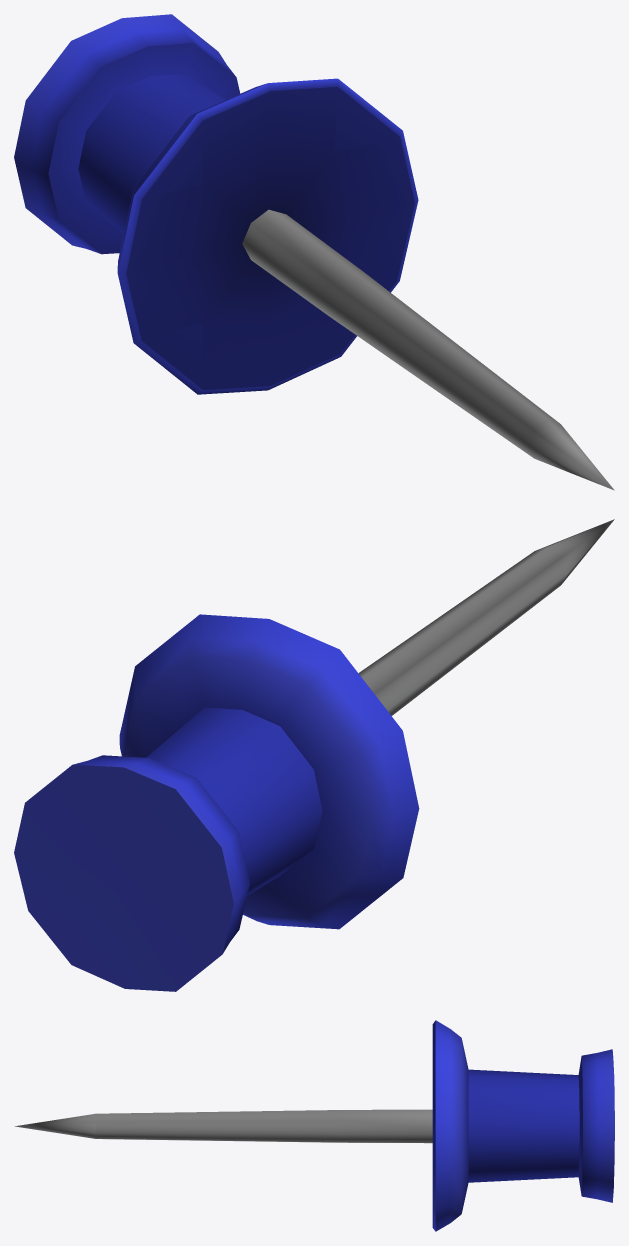
The model's file is human-household-items-thumbtack_v1.glb.
3 views of the same model, one above another, from view 1: azimuth 30°, elevation 25°; view 2: azimuth 150°, elevation 25°; view 3: azimuth 270°, elevation 25° (orthographic). The views are drawn at different scales.
Parts seen in each view (by area): view 1: Thumbtack, Thumbtack.001; view 2: Thumbtack, Thumbtack.001; view 3: Thumbtack, Thumbtack.001.
Part boxes in pixels (box(x1,y1,x2,y2)): Thumbtack: box(14, 14, 418, 394); Thumbtack.001: box(242, 209, 614, 490); Thumbtack: box(14, 614, 419, 991); Thumbtack.001: box(358, 519, 614, 715); Thumbtack: box(432, 1020, 614, 1231); Thumbtack.001: box(15, 1109, 432, 1143).
Bounding box in the file's own units: 0.00703 × 0.00686 × 0.02.
